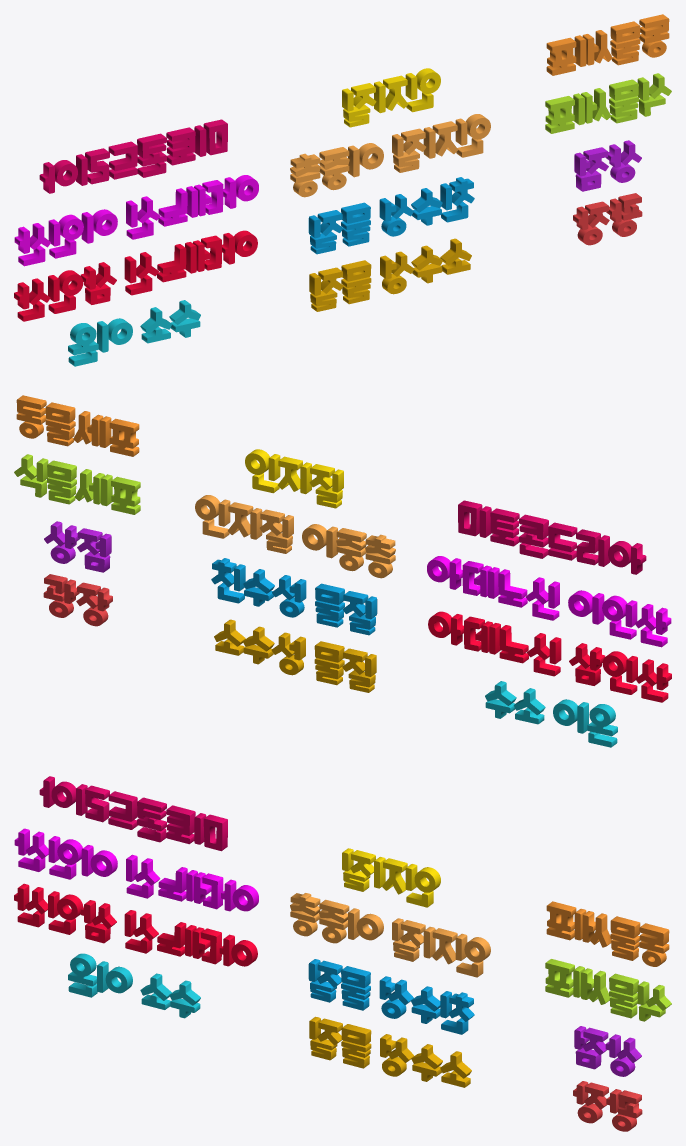
File: CellAdventure_3DText_Addition.fbx
3 renders of one model, top to bottom at view 1: azimuth 30°, elevation 25°; view 2: azimuth 150°, elevation 25°; view 3: azimuth 330°, elevation 25°, orthographic.
Parts seen in each view (by area): view 1: Text_ATP_Mito, Text_ADP_Mito, Text_PhospholipidDouble_CM, Text_Mitochondria_Mito, Text_Hydrophilic_CM, Text_Hydrophobic_CM, Text_AnimalCell_Lobby, Text_PlantCell_Lobby, Text_HIon_Mito, Text_Phospholipid_CM, Text_Square_Lobby, Text_Market_Lobby; view 2: Text_ATP_Mito, Text_ADP_Mito, Text_PhospholipidDouble_CM, Text_Mitochondria_Mito, Text_Hydrophilic_CM, Text_Hydrophobic_CM, Text_AnimalCell_Lobby, Text_PlantCell_Lobby, Text_HIon_Mito, Text_Phospholipid_CM, Text_Square_Lobby, Text_Market_Lobby; view 3: Text_ATP_Mito, Text_ADP_Mito, Text_PhospholipidDouble_CM, Text_Mitochondria_Mito, Text_Hydrophilic_CM, Text_Hydrophobic_CM, Text_AnimalCell_Lobby, Text_PlantCell_Lobby, Text_HIon_Mito, Text_Phospholipid_CM, Text_Square_Lobby, Text_Market_Lobby.
Part boxes in pixels (box(x1,y1,x2,y2)): Text_ATP_Mito: box(14, 230, 257, 321); Text_ADP_Mito: box(14, 175, 258, 266); Text_PhospholipidDouble_CM: box(290, 114, 490, 197); Text_Mitochondria_Mito: box(39, 119, 227, 193); Text_Hydrophilic_CM: box(308, 177, 474, 254); Text_Hydrophobic_CM: box(309, 238, 471, 311); Text_AnimalCell_Lobby: box(546, 14, 669, 75); Text_PlantCell_Lobby: box(545, 73, 671, 133); Text_HIon_Mito: box(68, 300, 200, 366); Text_Phospholipid_CM: box(342, 68, 440, 127); Text_Square_Lobby: box(573, 193, 642, 245); Text_Market_Lobby: box(574, 140, 641, 191); Text_ATP_Mito: box(428, 611, 671, 702); Text_ADP_Mito: box(427, 556, 671, 647); Text_PhospholipidDouble_CM: box(195, 495, 395, 578); Text_Mitochondria_Mito: box(458, 500, 646, 574); Text_Hydrophilic_CM: box(211, 558, 377, 635); Text_Hydrophobic_CM: box(214, 619, 376, 692); Text_AnimalCell_Lobby: box(16, 395, 139, 456); Text_PlantCell_Lobby: box(14, 454, 140, 514); Text_HIon_Mito: box(485, 681, 617, 747); Text_Phospholipid_CM: box(245, 449, 343, 508); Text_Square_Lobby: box(43, 574, 112, 626); Text_Market_Lobby: box(44, 521, 111, 572); Text_ATP_Mito: box(14, 883, 257, 966); Text_ADP_Mito: box(14, 828, 258, 911); Text_PhospholipidDouble_CM: box(290, 893, 490, 977); Text_Mitochondria_Mito: box(39, 776, 227, 851); Text_Hydrophilic_CM: box(308, 959, 474, 1034); Text_Hydrophobic_CM: box(309, 1016, 471, 1087); Text_AnimalCell_Lobby: box(546, 901, 669, 966); Text_PlantCell_Lobby: box(545, 959, 671, 1021); Text_HIon_Mito: box(68, 953, 200, 1018); Text_Phospholipid_CM: box(342, 848, 440, 907); Text_Square_Lobby: box(573, 1081, 642, 1131); Text_Market_Lobby: box(574, 1026, 641, 1076).
Size of the model in its own units: 13.49 by 0.2 by 4.2.
